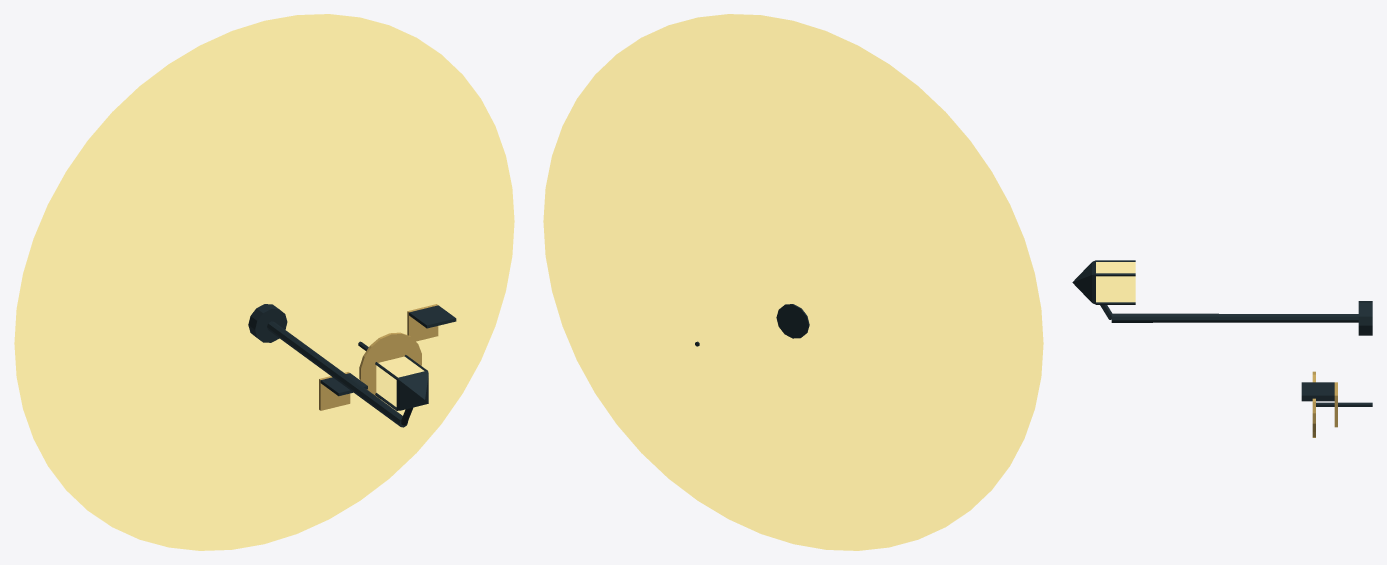
The model's file is lanterne.glb.
3 renders of one model, left to right at view 1: azimuth 30°, elevation 25°; view 2: azimuth 150°, elevation 25°; view 3: azimuth 270°, elevation 25°, orthographic. The views are drawn at different scales.
Parts seen in each view (by area): view 1: flaque, mat, plateau, lanterne.001, capot, pied, dossier.001; view 2: flaque, pied; view 3: mat, lanterne.001, capot, dossier.001, pied.
Part boxes in pixels (bbox=[...]): flaque: bbox=[14, 14, 514, 550]; mat: bbox=[267, 321, 407, 427]; plateau: bbox=[359, 332, 421, 399]; lanterne.001: bbox=[376, 356, 424, 406]; capot: bbox=[396, 370, 428, 410]; pied: bbox=[248, 304, 287, 342]; dossier.001: bbox=[409, 305, 456, 328]; flaque: bbox=[543, 14, 1043, 550]; pied: bbox=[776, 304, 809, 338]; mat: bbox=[1111, 313, 1358, 322]; lanterne.001: bbox=[1096, 262, 1135, 302]; capot: bbox=[1072, 260, 1095, 304]; dossier.001: bbox=[1301, 382, 1334, 398]; pied: bbox=[1358, 301, 1372, 335].
Size of the model in its own units: 6.8 by 6.8 by 3.8.
